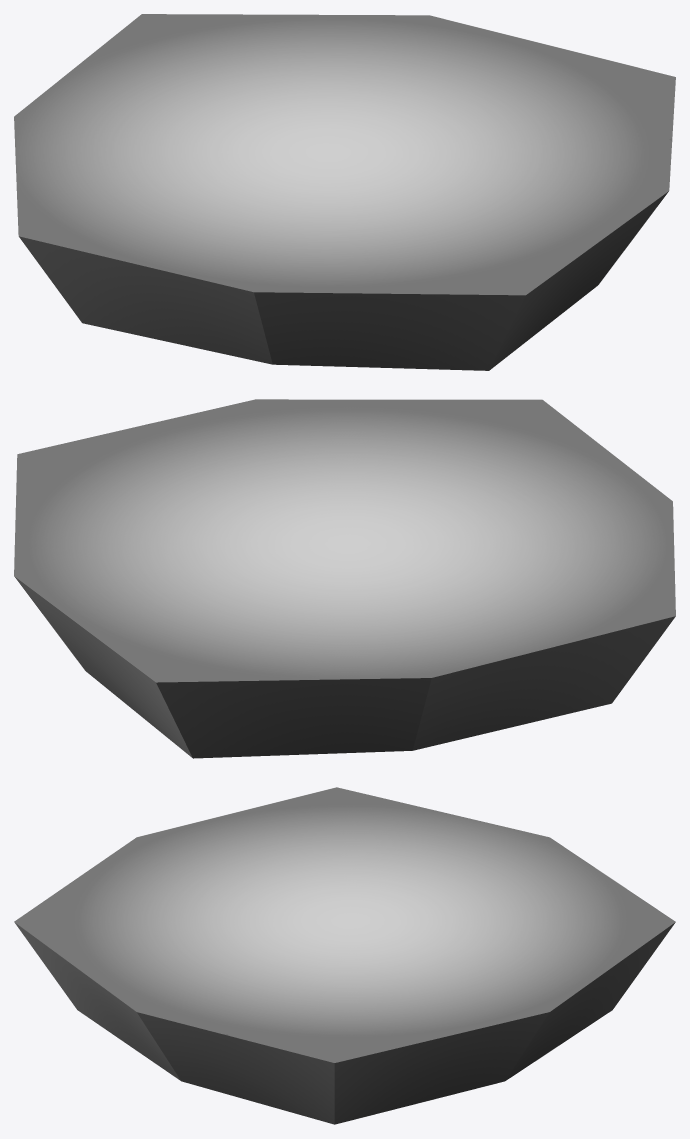
Rendered from Platform3.fbx.
3 renders of one model, top to bottom at view 1: azimuth 30°, elevation 25°; view 2: azimuth 150°, elevation 25°; view 3: azimuth 270°, elevation 25°, orthographic. The views are drawn at different scales.
Visible parts, largest first — view 1: Cylinder; view 2: Cylinder; view 3: Cylinder.
Part boxes in pixels (x1,y1,x2,y2): Cylinder: [14, 14, 675, 370]; Cylinder: [14, 399, 675, 758]; Cylinder: [14, 787, 675, 1124].
Bounding box in the file's own units: 670 × 100 × 680.
